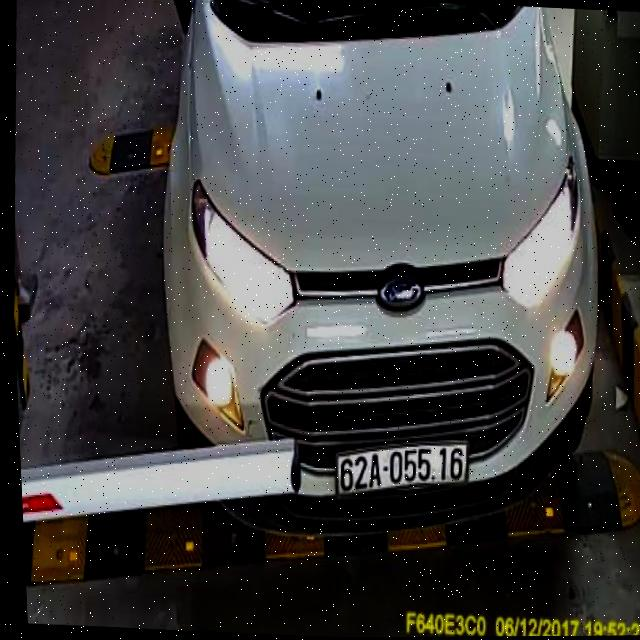car: (122, 0, 627, 558)
plate: (331, 439, 470, 500)
